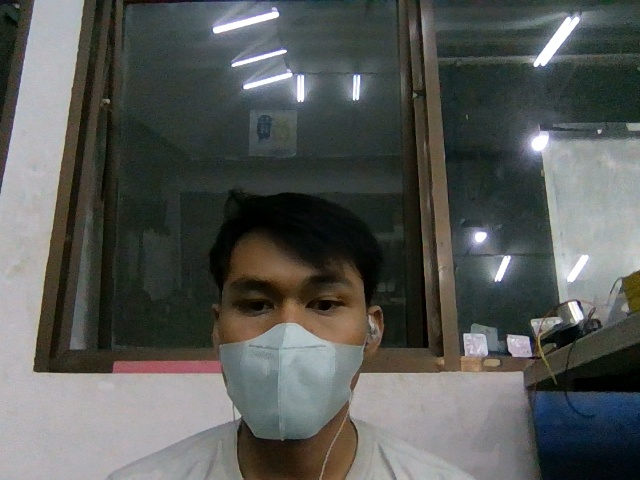mask_on: (219, 323, 363, 439)
